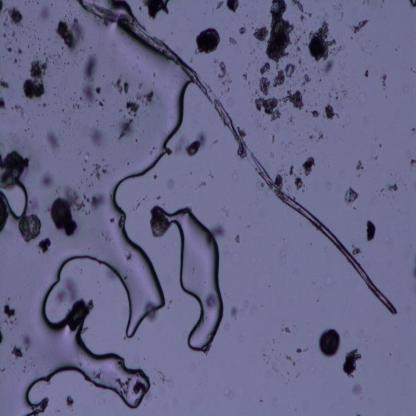Air bubble: (0, 225, 164, 415), (104, 82, 192, 224), (169, 206, 227, 355), (1, 181, 32, 221)
Background material: (265, 0, 293, 62), (308, 21, 336, 59), (83, 49, 101, 108), (23, 61, 47, 101), (54, 16, 83, 49), (54, 273, 81, 306), (66, 296, 92, 330), (225, 296, 253, 327), (16, 209, 42, 242), (0, 154, 28, 183), (281, 163, 307, 194), (43, 119, 62, 157), (261, 337, 282, 371), (81, 161, 108, 187), (66, 187, 90, 216), (112, 117, 137, 143), (194, 29, 220, 54), (325, 80, 352, 104), (290, 29, 306, 68), (256, 98, 281, 121), (151, 207, 169, 238), (143, 1, 171, 20), (88, 124, 107, 151), (110, 74, 132, 96), (0, 299, 18, 325), (135, 83, 156, 105), (285, 90, 306, 111), (321, 58, 343, 78), (342, 186, 360, 210), (294, 0, 312, 23), (111, 374, 131, 394), (254, 59, 273, 79), (132, 192, 150, 213), (38, 170, 56, 191), (377, 70, 392, 95), (301, 154, 316, 178), (8, 344, 27, 362), (124, 96, 142, 115), (36, 234, 53, 254), (206, 219, 226, 236), (381, 181, 405, 195), (10, 5, 25, 27), (352, 17, 369, 36), (42, 50, 62, 66), (193, 130, 210, 148), (91, 195, 108, 213), (326, 103, 342, 122), (132, 378, 148, 396), (254, 25, 270, 42), (351, 158, 366, 176), (186, 139, 201, 157), (272, 171, 286, 190), (366, 219, 377, 243), (348, 381, 364, 397), (11, 104, 26, 121), (350, 240, 364, 258), (155, 367, 168, 385), (260, 78, 273, 96), (22, 329, 35, 347), (284, 61, 296, 80), (70, 100, 86, 114), (36, 4, 49, 21), (299, 74, 314, 88), (279, 321, 292, 337), (346, 348, 362, 361), (64, 397, 76, 414), (275, 68, 285, 88), (216, 61, 226, 80), (221, 388, 236, 400), (310, 129, 323, 142), (309, 106, 321, 119), (227, 1, 241, 12), (96, 96, 105, 113), (285, 355, 298, 366), (166, 298, 176, 312), (10, 29, 20, 43), (0, 79, 11, 91), (165, 177, 175, 190), (124, 249, 132, 262), (237, 26, 247, 36), (238, 71, 248, 81), (214, 0, 224, 10), (0, 0, 7, 14), (0, 95, 7, 109), (197, 182, 209, 190), (296, 345, 308, 353), (326, 275, 334, 287), (2, 17, 10, 29), (228, 36, 237, 46), (1, 31, 10, 41), (405, 0, 416, 8), (410, 155, 416, 169), (15, 46, 24, 55), (364, 68, 370, 81), (234, 235, 242, 244), (107, 215, 115, 224), (151, 170, 157, 182), (295, 371, 304, 379), (94, 85, 102, 94), (7, 44, 15, 53), (269, 149, 275, 160), (315, 294, 321, 304), (0, 329, 4, 344), (272, 134, 276, 147), (372, 154, 379, 160), (310, 280, 317, 286), (23, 127, 31, 132), (380, 140, 384, 149), (285, 370, 291, 376), (40, 101, 46, 107), (14, 57, 19, 64), (258, 398, 264, 403), (66, 61, 72, 66), (156, 194, 160, 200), (31, 132, 34, 139), (122, 336, 127, 340), (268, 284, 272, 289), (60, 108, 65, 112), (89, 46, 93, 50), (27, 26, 31, 30), (102, 73, 105, 78), (28, 34, 31, 38), (27, 45, 30, 49), (50, 20, 53, 24), (66, 103, 69, 107), (34, 35, 36, 40), (30, 51, 33, 54), (2, 56, 5, 59), (68, 10, 71, 13), (22, 30, 24, 34), (51, 2, 53, 6), (64, 14, 66, 18), (38, 42, 40, 46), (48, 27, 50, 31), (36, 2, 40, 4), (70, 3, 72, 7), (80, 97, 82, 101), (34, 29, 36, 32), (37, 38, 40, 40), (54, 93, 56, 96), (54, 102, 57, 104), (74, 91, 76, 94), (28, 0, 30, 3), (94, 53, 96, 56), (32, 1, 34, 3), (38, 48, 40, 50), (64, 62, 66, 64), (30, 21, 32, 23), (71, 13, 72, 16), (34, 24, 35, 26)
Cotton: (78, 1, 400, 316)
Diatom: (50, 195, 72, 226), (320, 326, 340, 358), (0, 195, 10, 230), (342, 360, 354, 376)
